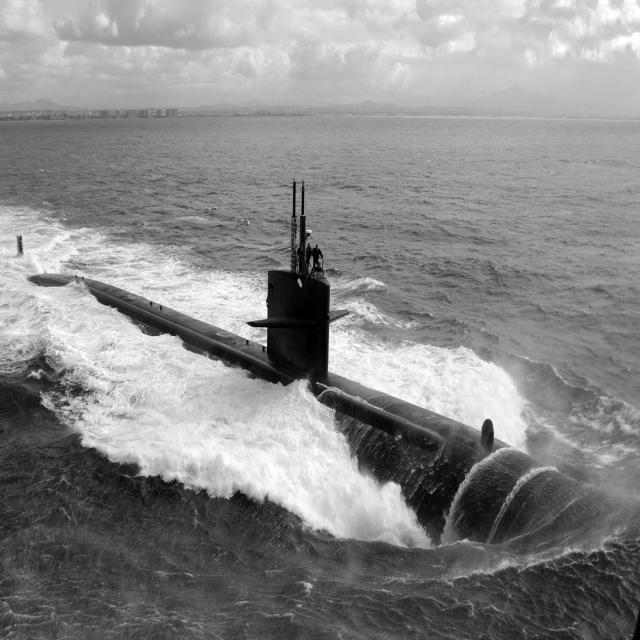submarine: (9, 175, 600, 581)
